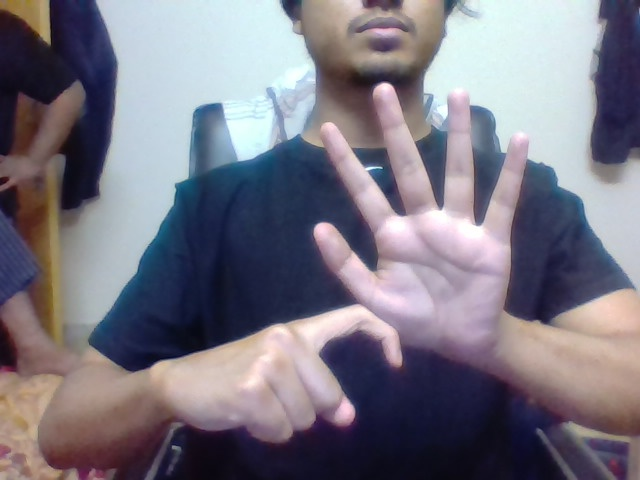R: (273, 298, 402, 432)
